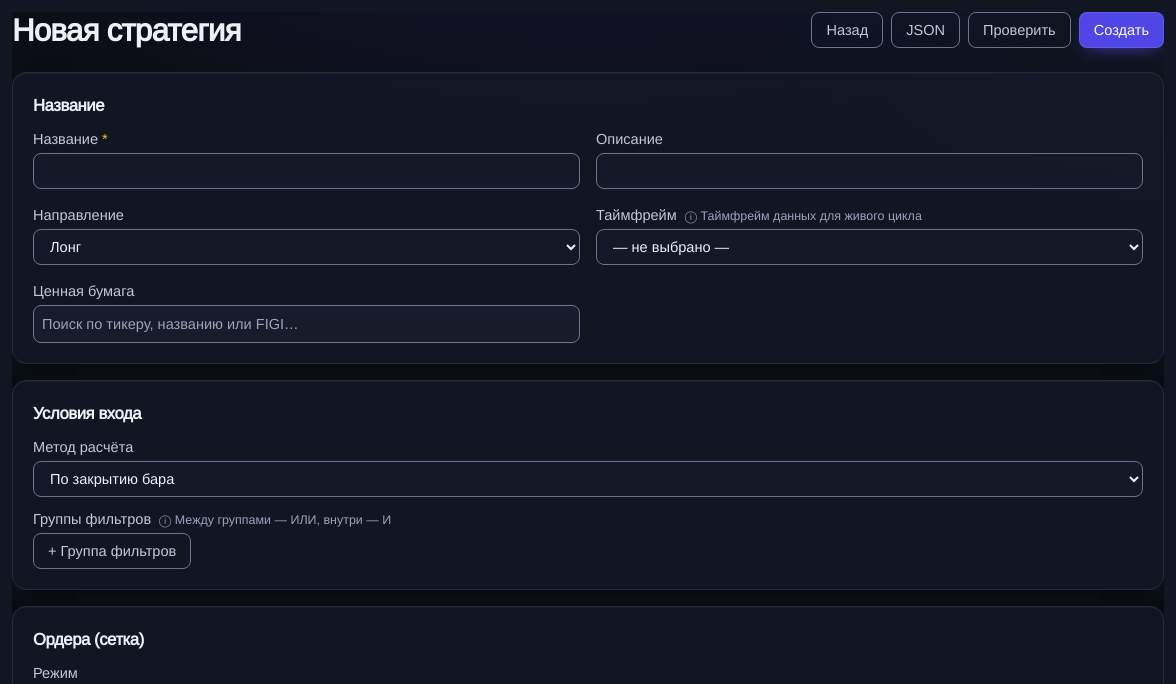
MVP-7.5 U9: «Ценная бумага» › выбор по тикеру записывает верный instrument_id и показывает подпись
expect the heading "Новая стратегия" is shown: met, box [12,12,241,48]
Type "газпром" into the dropdown with placeholder "Поиск по тикеру, названию или FIGI…" at (306, 324), box [33,305,580,343]
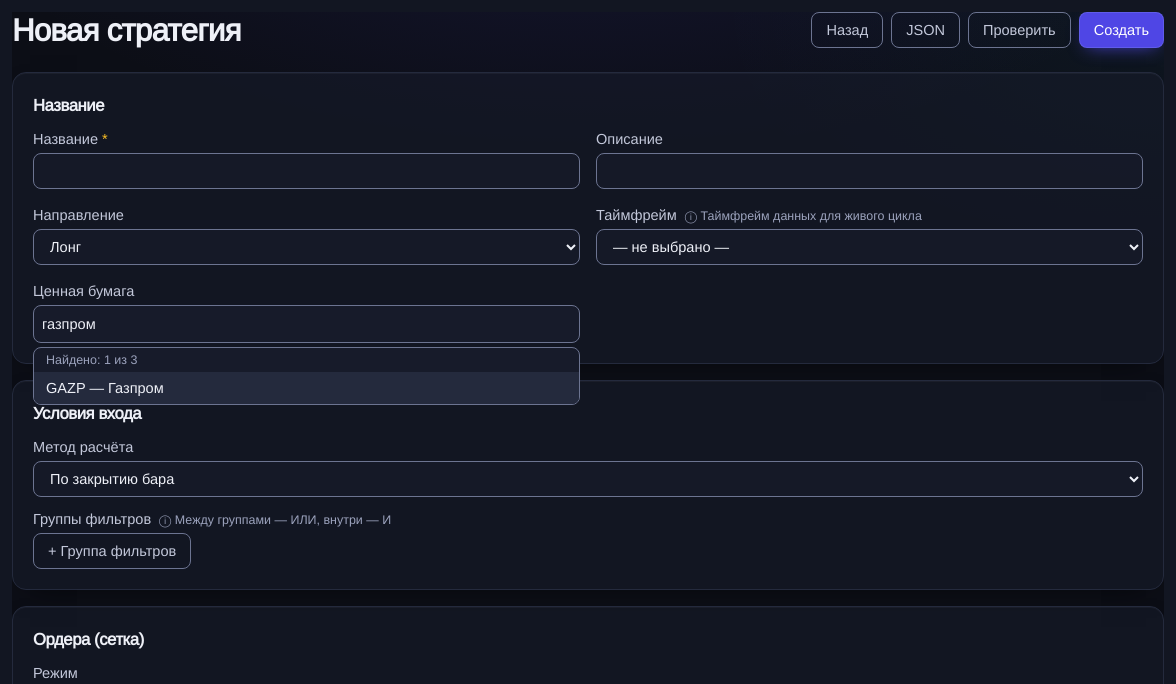
Press ArrowDown in the dropdown named "Ценная бумага", box [33,305,580,343]
Press Enter in the dropdown named "Ценная бумага", box [33,305,580,343]
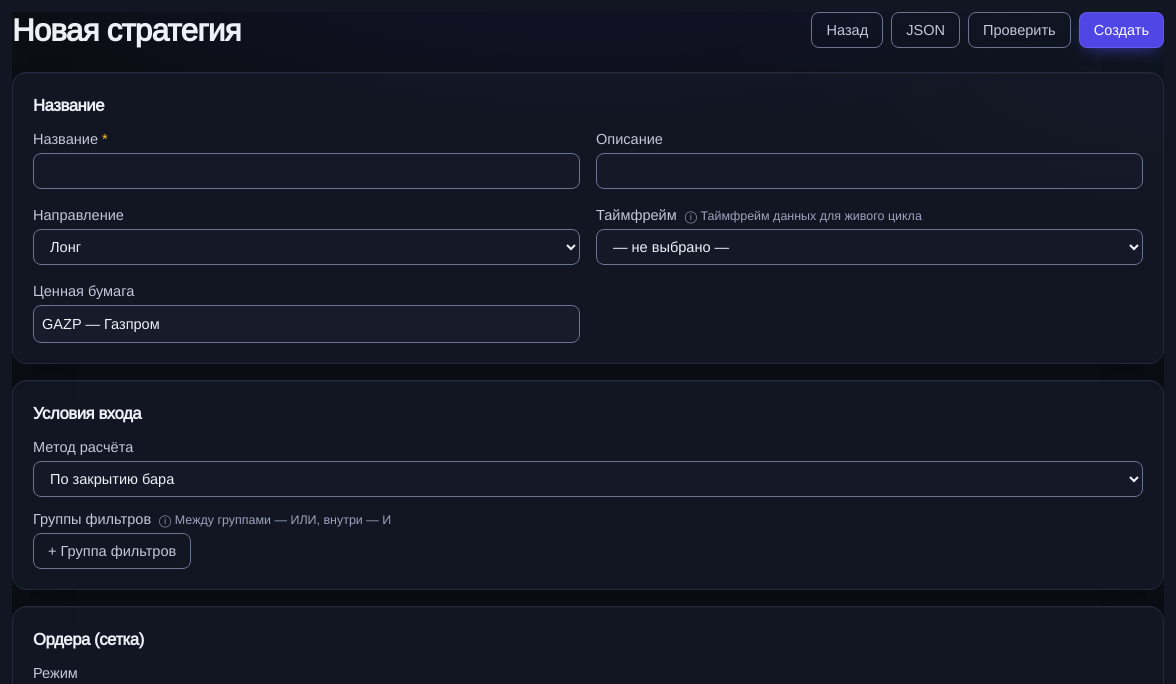
expect the dropdown named "Ценная бумага" holds "GAZP — Газпром": met, box [33,305,580,343]
Click the button "Проверить" at (1019, 30), box [968,12,1071,48]
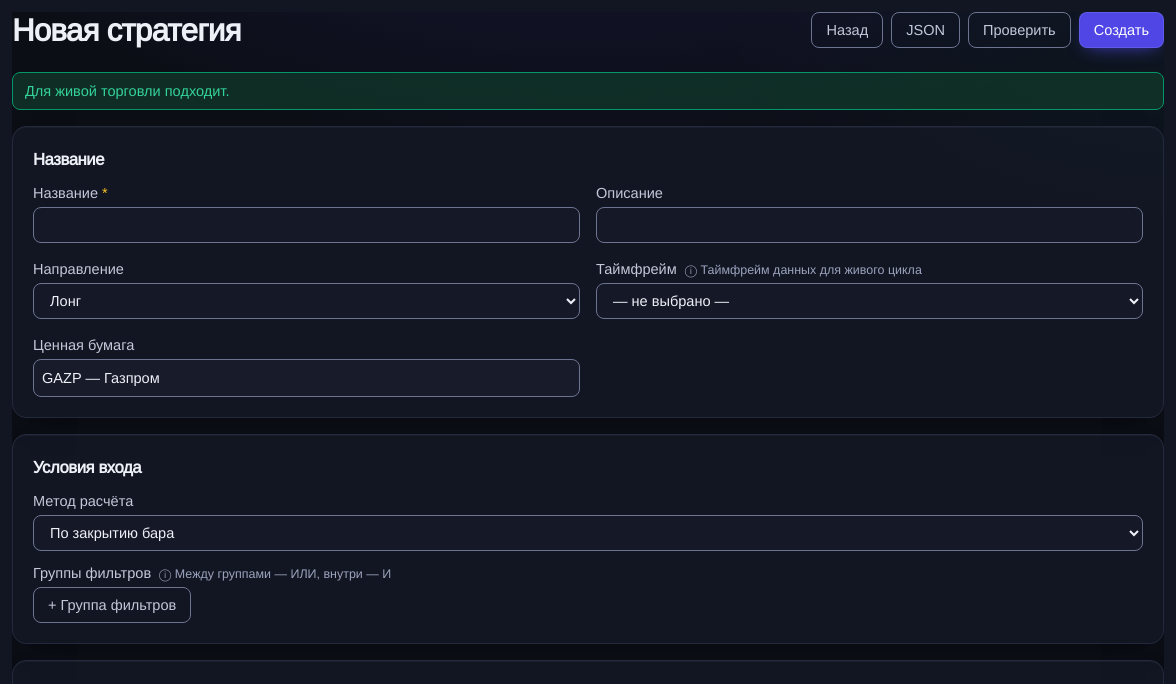
expect the text "Для живой торговли подходит." is shown: met, box [12,72,1164,110]
